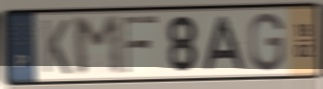8: (166, 14, 199, 75)
A: (202, 15, 248, 72)
F: (121, 14, 160, 76)
G: (247, 11, 286, 73)
K: (39, 17, 73, 77)
M: (70, 14, 127, 79)
